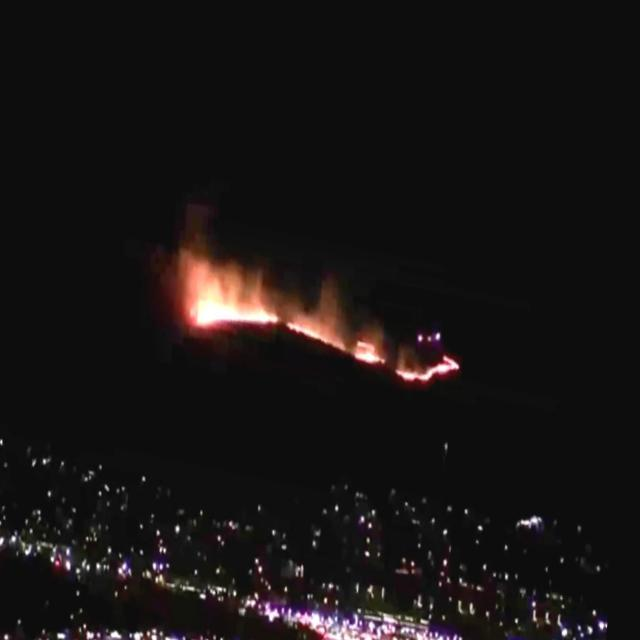Fire: (192, 248, 284, 326), (399, 326, 464, 371), (288, 291, 350, 338), (357, 320, 391, 354)
